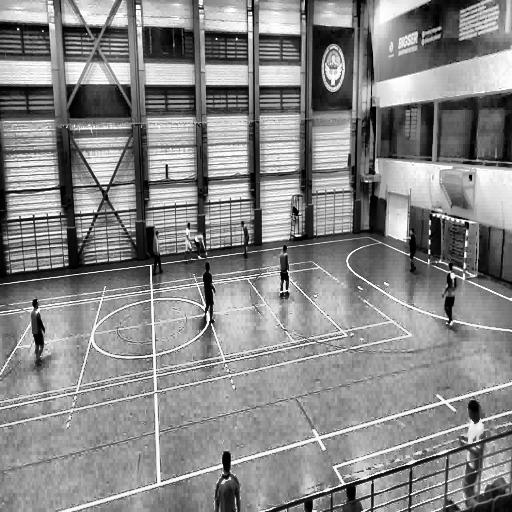ball: (203, 251, 210, 259)
player: (460, 400, 486, 507), (215, 450, 241, 510), (29, 298, 46, 365), (442, 262, 457, 325), (205, 261, 217, 323), (279, 244, 290, 298), (154, 229, 165, 275), (408, 228, 416, 273), (184, 223, 193, 261), (195, 229, 206, 260), (241, 220, 249, 258)
